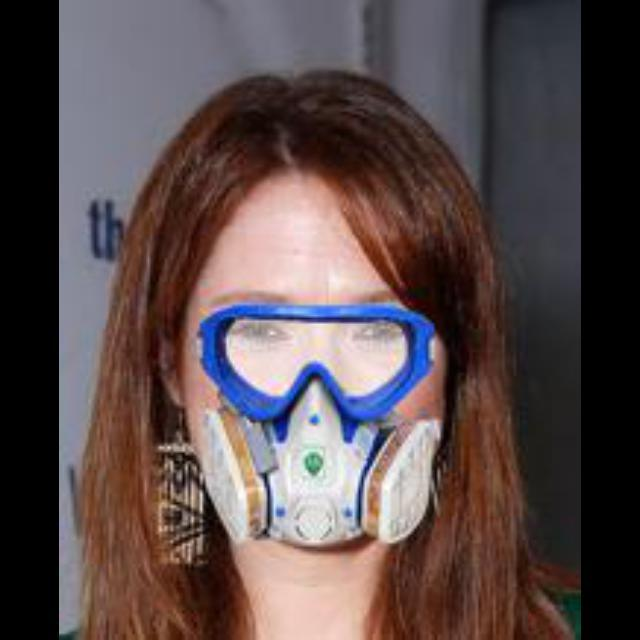suspicion: (169, 73, 459, 595)
